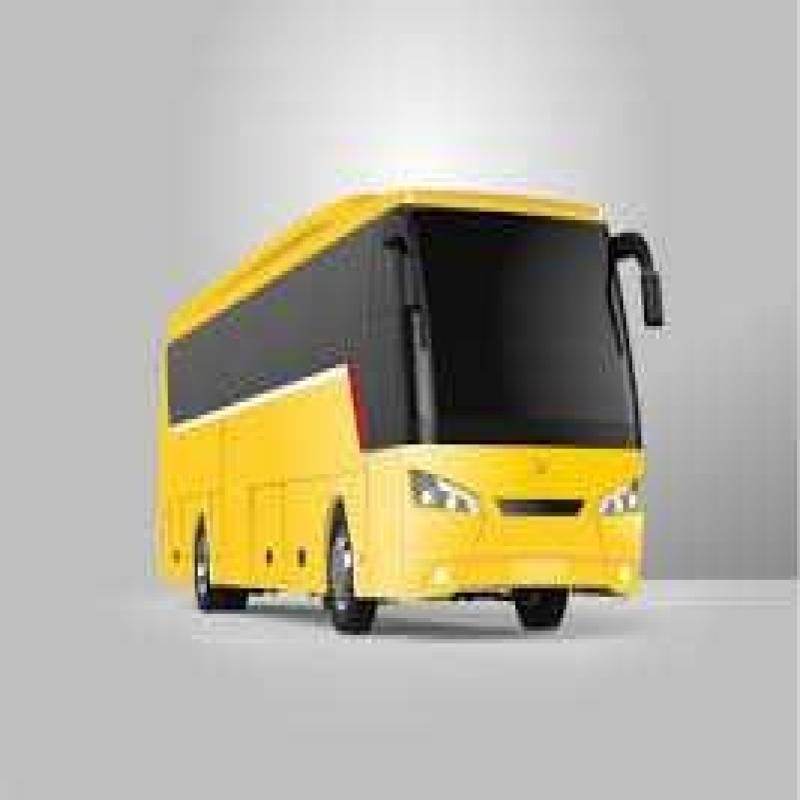bus: (99, 145, 685, 643)
